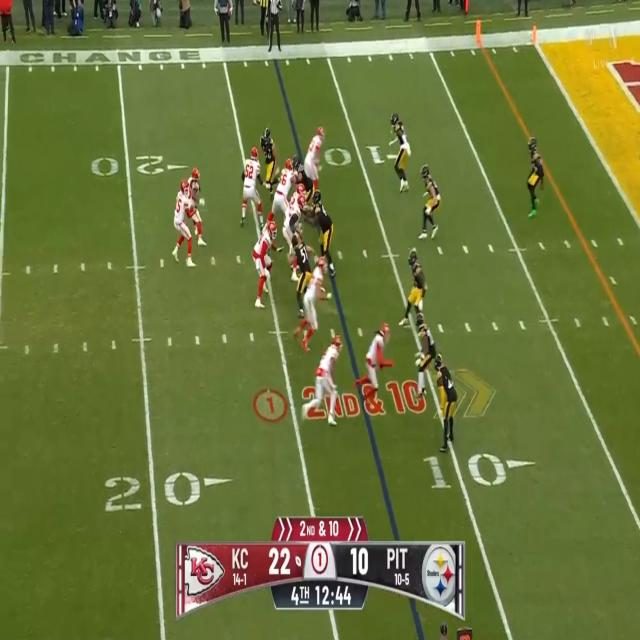Ball: (190, 201, 197, 215)
